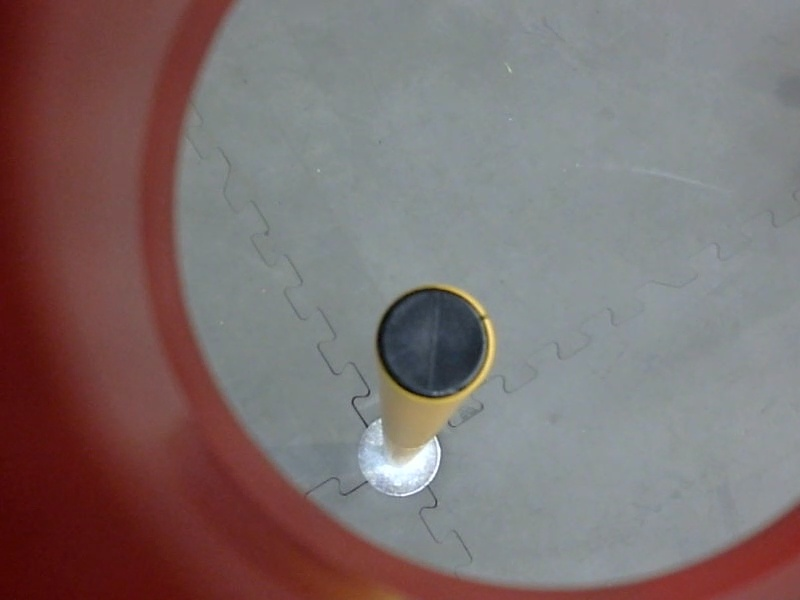tip: (369, 278, 499, 409)
